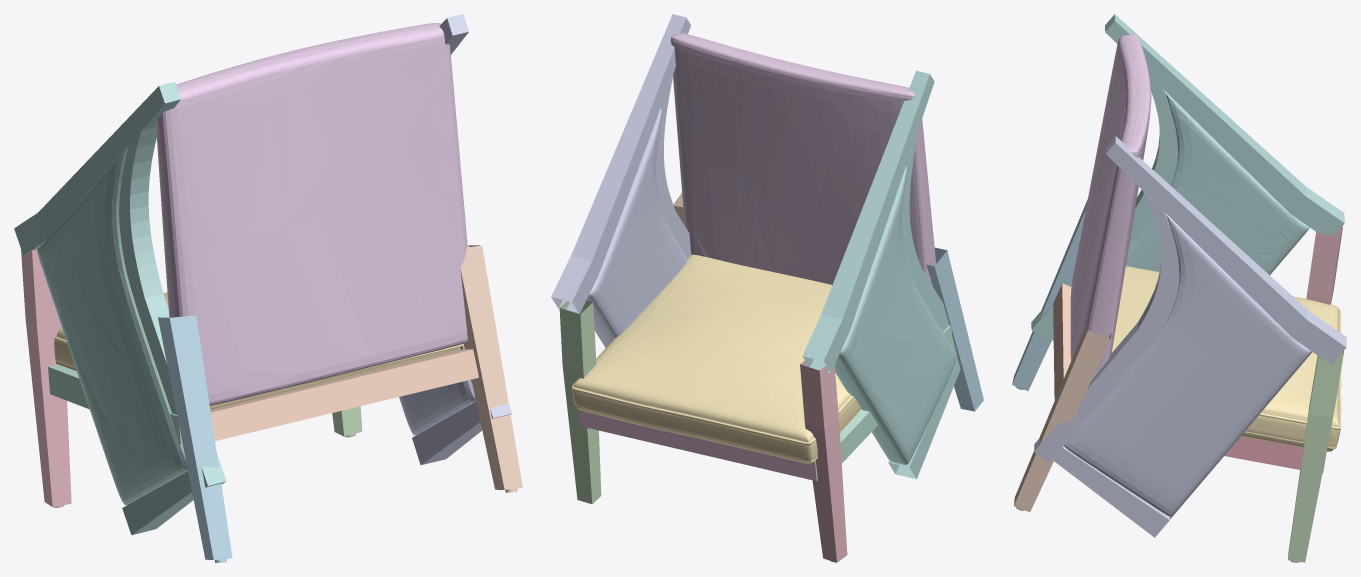
Rendered from 0c409bce_colored.glb.
3 views of the same model, side by side, from view 1: azimuth 30°, elevation 25°; view 2: azimuth 150°, elevation 25°; view 3: azimuth 270°, elevation 25° (orthographic). The views are drawn at different scales.
Parts seen in each view (by area): view 1: world; view 2: world; view 3: world.
Part boxes in pixels (bbox=[...]): world: bbox=[14, 14, 522, 562]; world: bbox=[551, 14, 983, 562]; world: bbox=[1012, 14, 1346, 562].
Size of the model in its own units: 0.5983 by 0.8832 by 0.6312.
